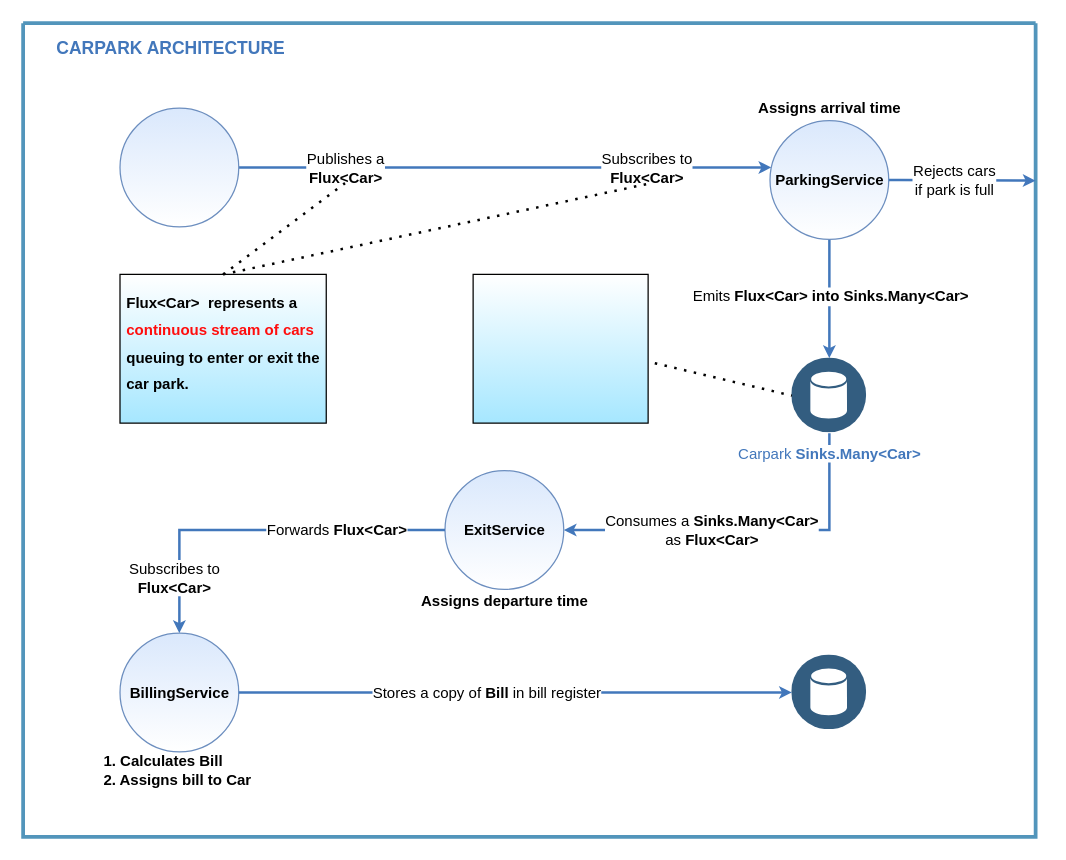
The diagram is 1066 pixels wide and 860 high, and some of its shapes have lost their labels. The box of each missing label's shape, as (x1, y1, x2, y2) in pixels:
Bill Register Set<Bill>: (791, 654, 866, 729)
EntryService: (119, 107, 239, 227)
Sinks.Many<Car> represents the car park with a capacity of 100 spaces .: (472, 273, 648, 423)
